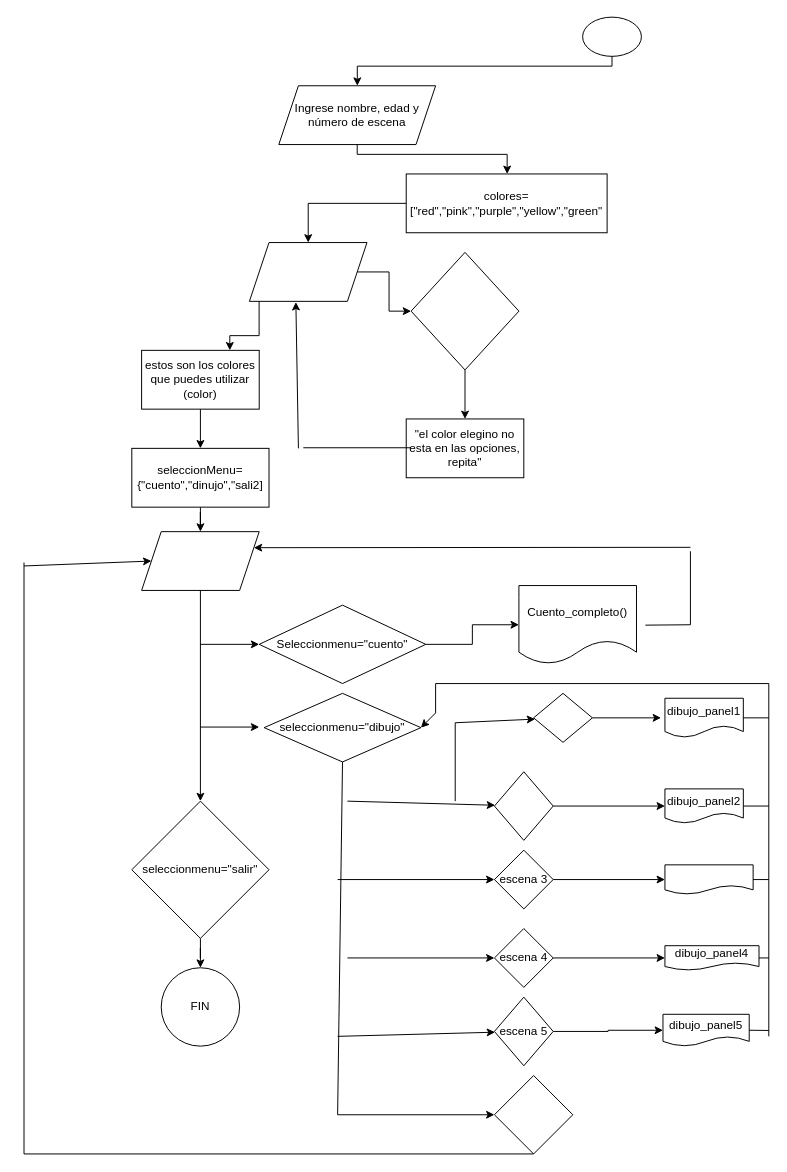
Image size: 787x1172. Some labels were removed from this diagram. Here are the shapes that lost their labels. From the top down, the centre of each, then its label:
At (x=611, y=36): "INICIO".
At (x=307, y=271): "color".
At (x=464, y=310): "color no esta en colores (not in)".
At (x=200, y=560): "Seleccione menu".
At (x=562, y=717): "escena1".
At (x=523, y=805): "escena 2".
At (x=708, y=879): "dibujo_panel3".
At (x=533, y=1114): "escena<=0 or escena >=6".
